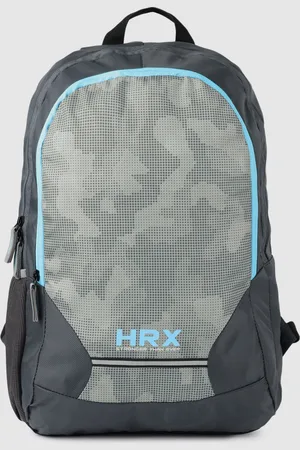backpack: (0, 6, 299, 436)
